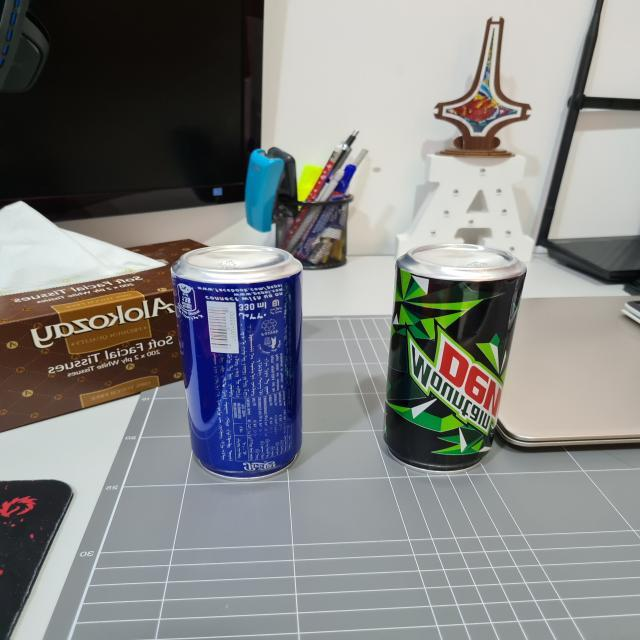can: (378, 242, 532, 476), (168, 242, 309, 484)
